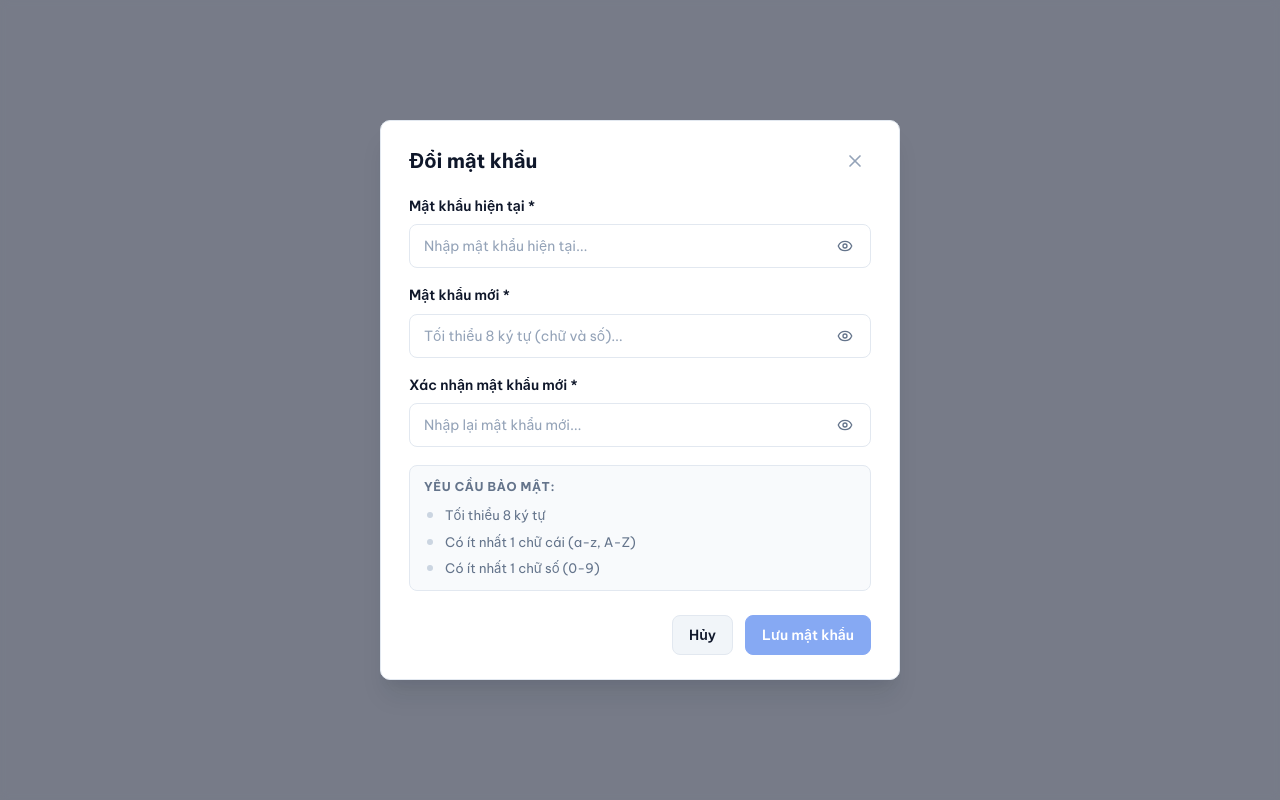
Test case: ĐỔI MẬT KHẨU PHẢI ĐĂNG XUẤT (Section 4, 7 - Test D) › Test D: Đổi mật khẩu thành công -> revoke session, xóa token/state, redirect /login và hiển thị thông báo đúng
This screenshot has width=1280, height=800.
Expected: the password field with id "newPassword" is shown, [409,314,871,358]
Expected: the password field with id "confirmPassword" is shown, [409,404,871,448]
Step 1. Type "OldPassword123@" into the password field with id "currentPassword" → (640, 246), box [409,224,871,268]
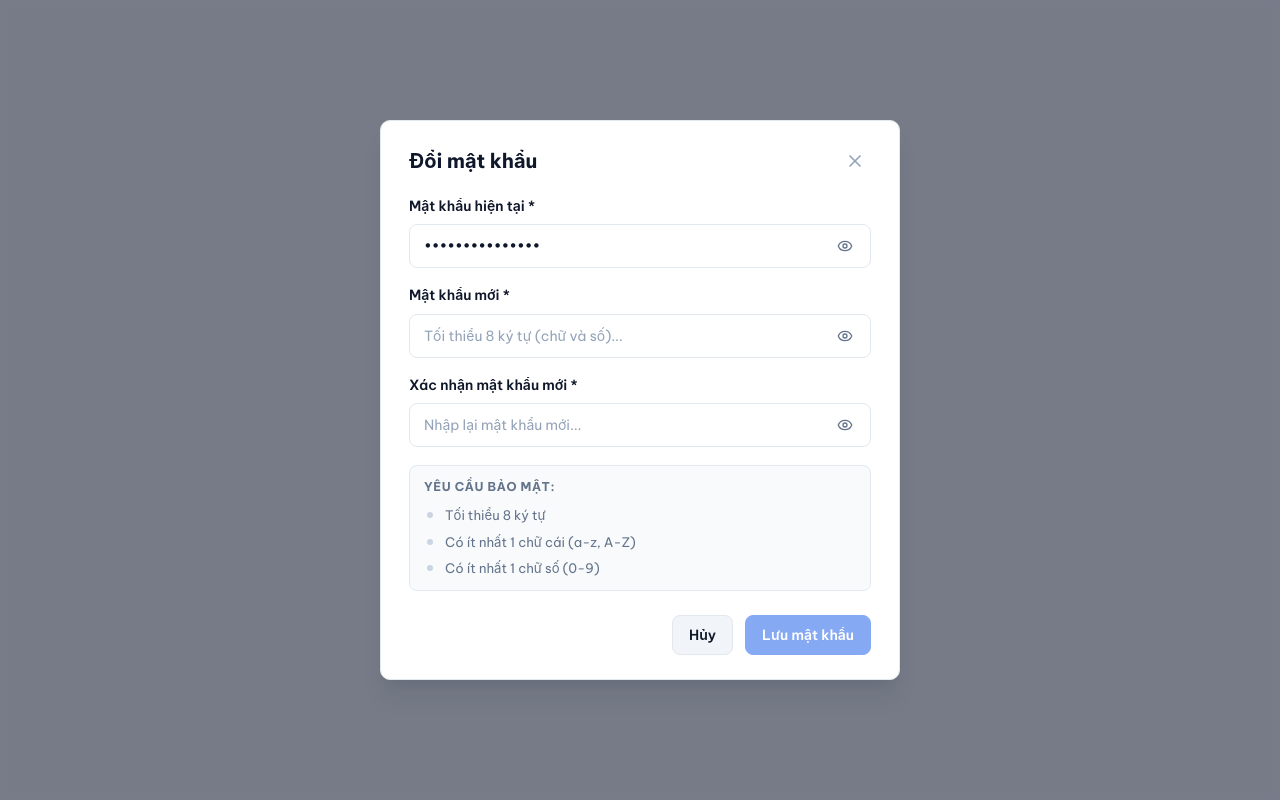
Step 2. Type "NewSecretPass999@" into the password field with id "newPassword" → (640, 336), box [409,314,871,358]
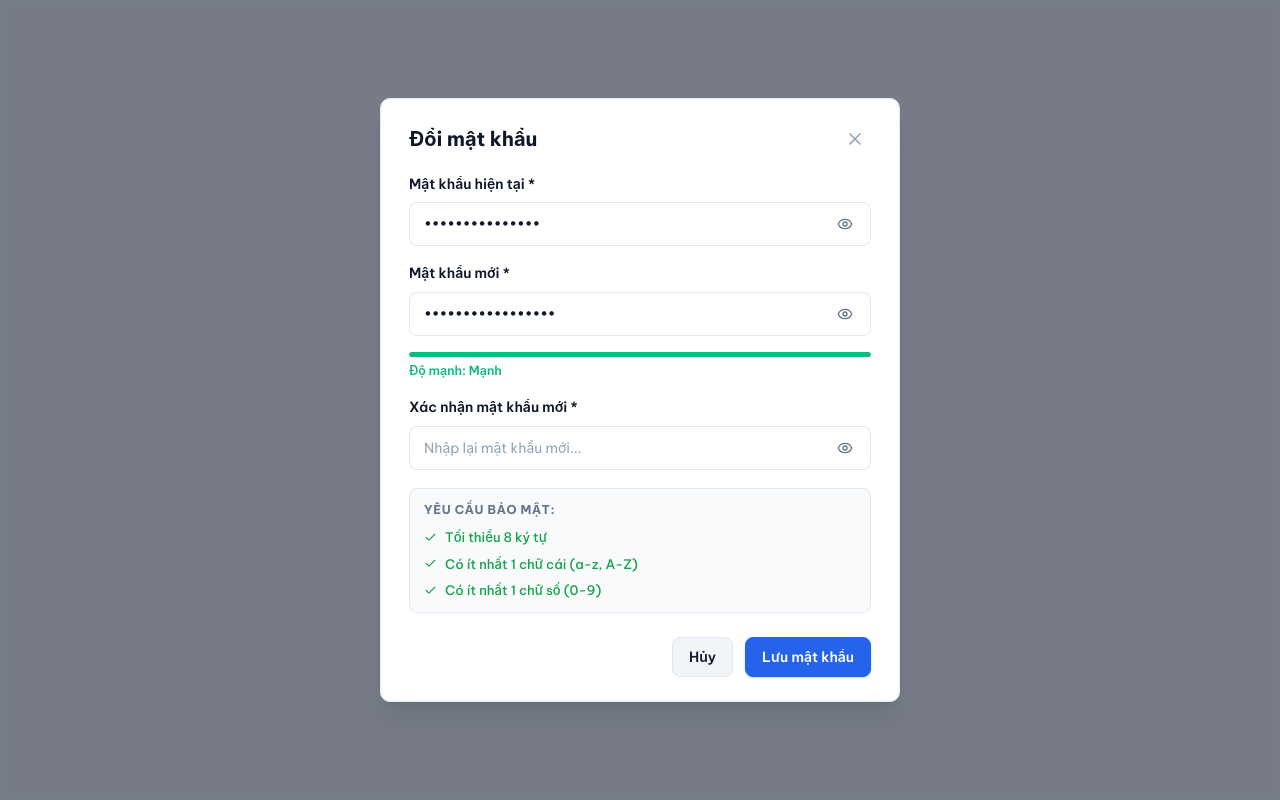
Step 3. Type "NewSecretPass999@" into the password field with id "confirmPassword" → (640, 448), box [409,426,871,470]
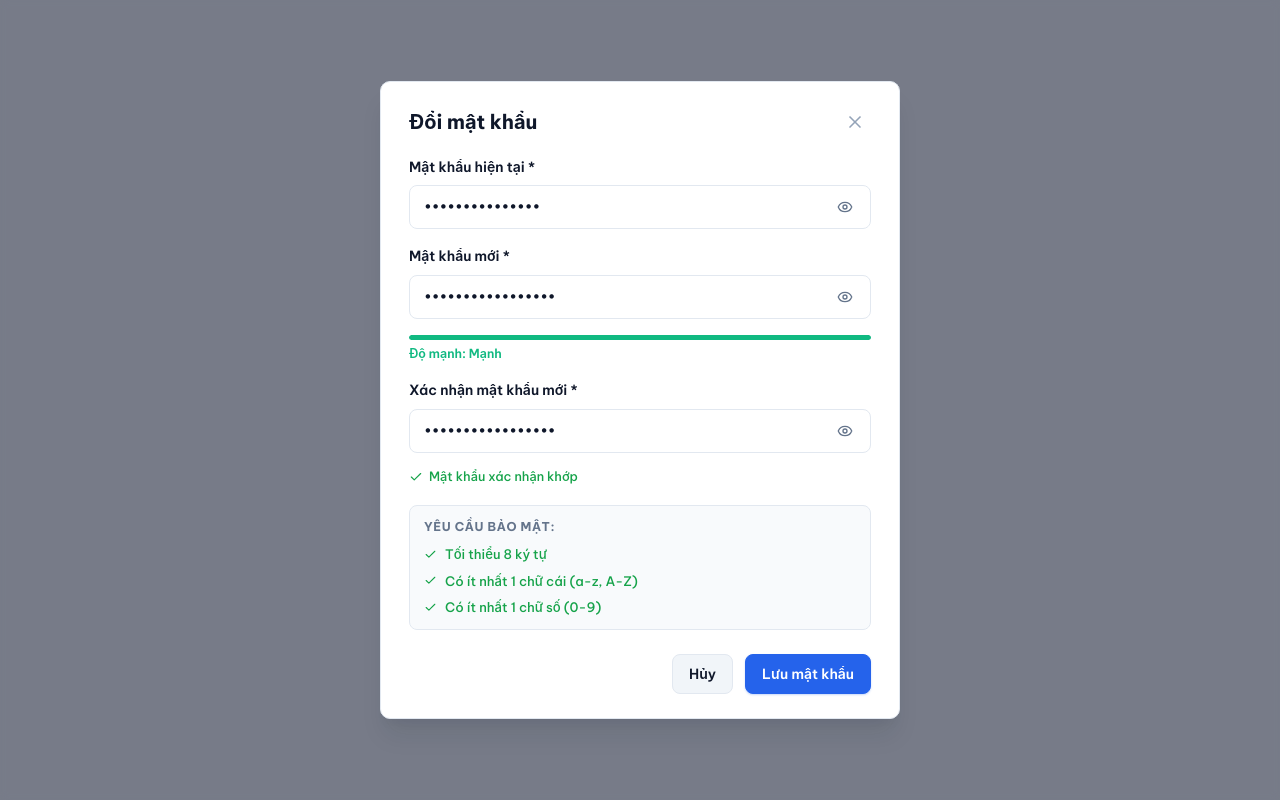
Result: the button "Lưu mật khẩu" is enabled
Step 4. Click the button "Lưu mật khẩu" → (808, 674), box [745,654,871,694]
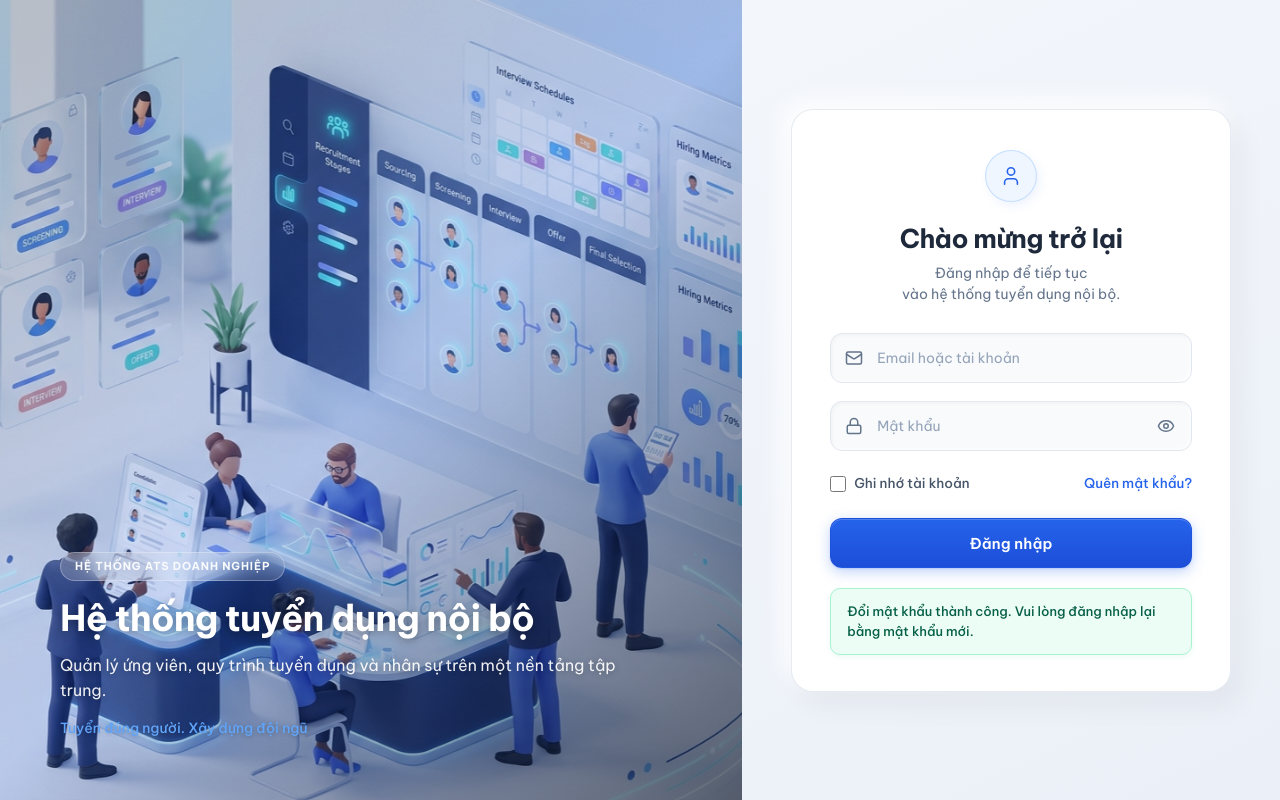
Result: the text "Đổi mật khẩu thành công. Vui lòng đăng nhập lại bằng mật khẩu mới." is shown at [847,601,1175,642]
